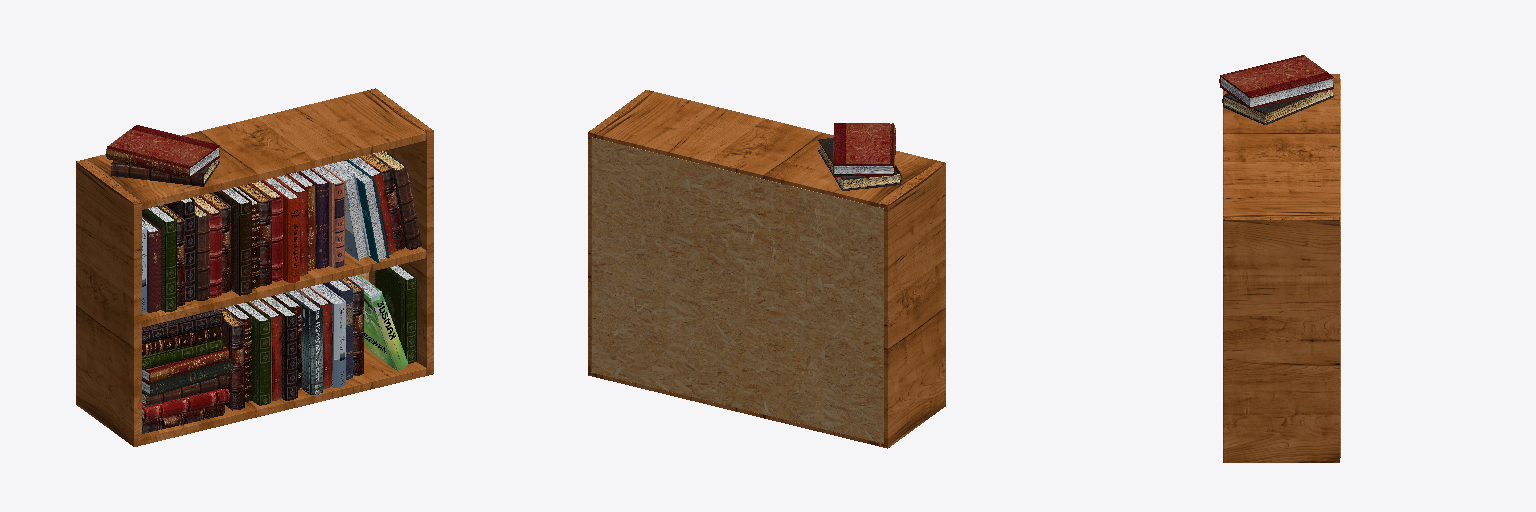
The picture shows the model from 3 angles: view 1: azimuth 30°, elevation 25°; view 2: azimuth 150°, elevation 25°; view 3: azimuth 270°, elevation 25°; orthographic projection.
Visible parts, largest first — view 1: Books, Bookshelf; view 2: Bookshelf, Books; view 3: Bookshelf, Books.
Boxes of the visible parts, box(x1,y1,x2,y2) form: Books: box(106, 125, 421, 433); Bookshelf: box(76, 88, 433, 446); Bookshelf: box(588, 90, 945, 448); Books: box(818, 123, 901, 190); Bookshelf: box(1223, 74, 1340, 462); Books: box(1219, 55, 1333, 124).
Bounding box in the file's own units: 4 × 3.42 × 1.4.
Materials: 21 (21 with a texture image).